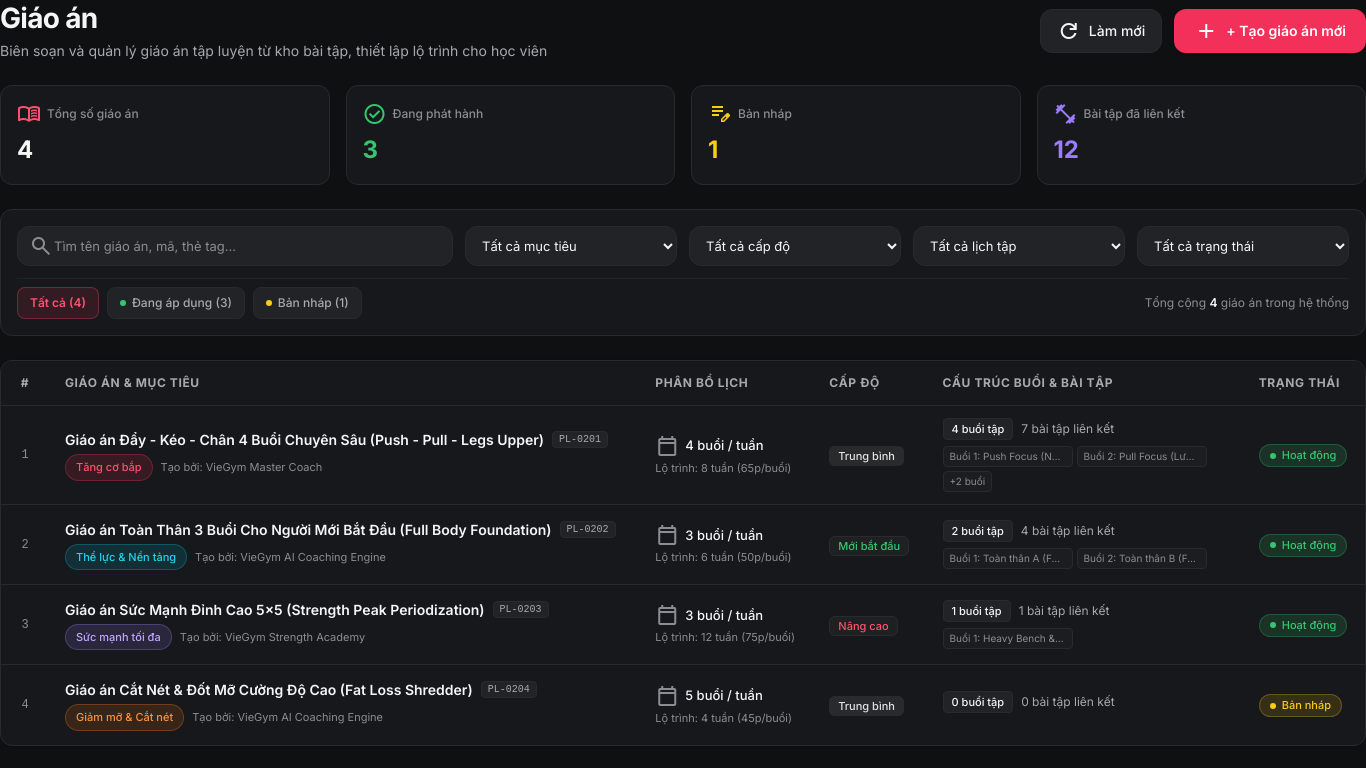
Test: WorkoutPlanListPage › opens and closes drawer when clicking + Tạo giáo án mới
Click the button "+ Tạo giáo án mới".
click(1270, 30)  # box [1174, 8, 1365, 52]
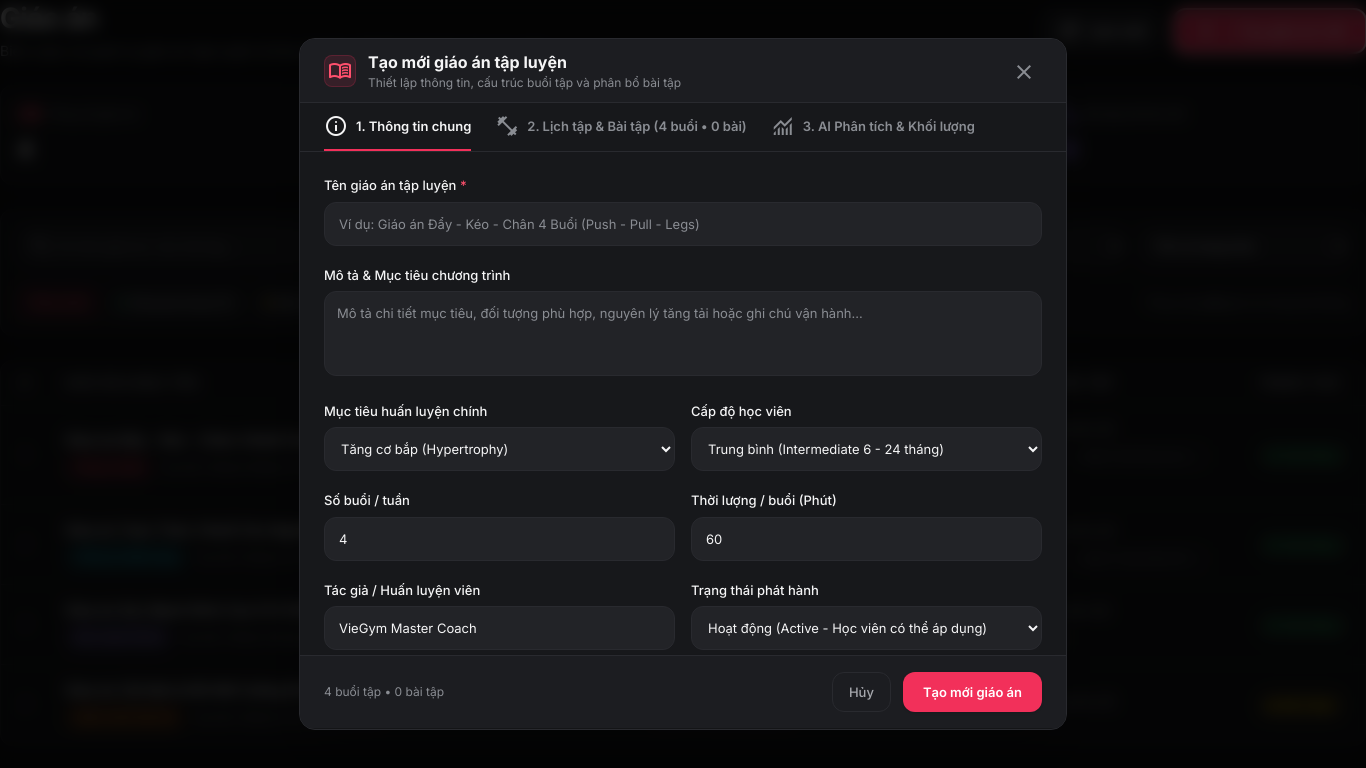
Now the heading "Tạo mới giáo án tập luyện" is shown, box [368, 50, 567, 74]
Now the text "1. Thông tin chung" is shown, box [356, 117, 471, 136]
Now the text "2. Lịch tập & Bài tập (4 buổi • 0 bài)" is shown, box [527, 117, 747, 136]
Click the button "Hủy".
click(861, 693)  # box [832, 673, 891, 713]
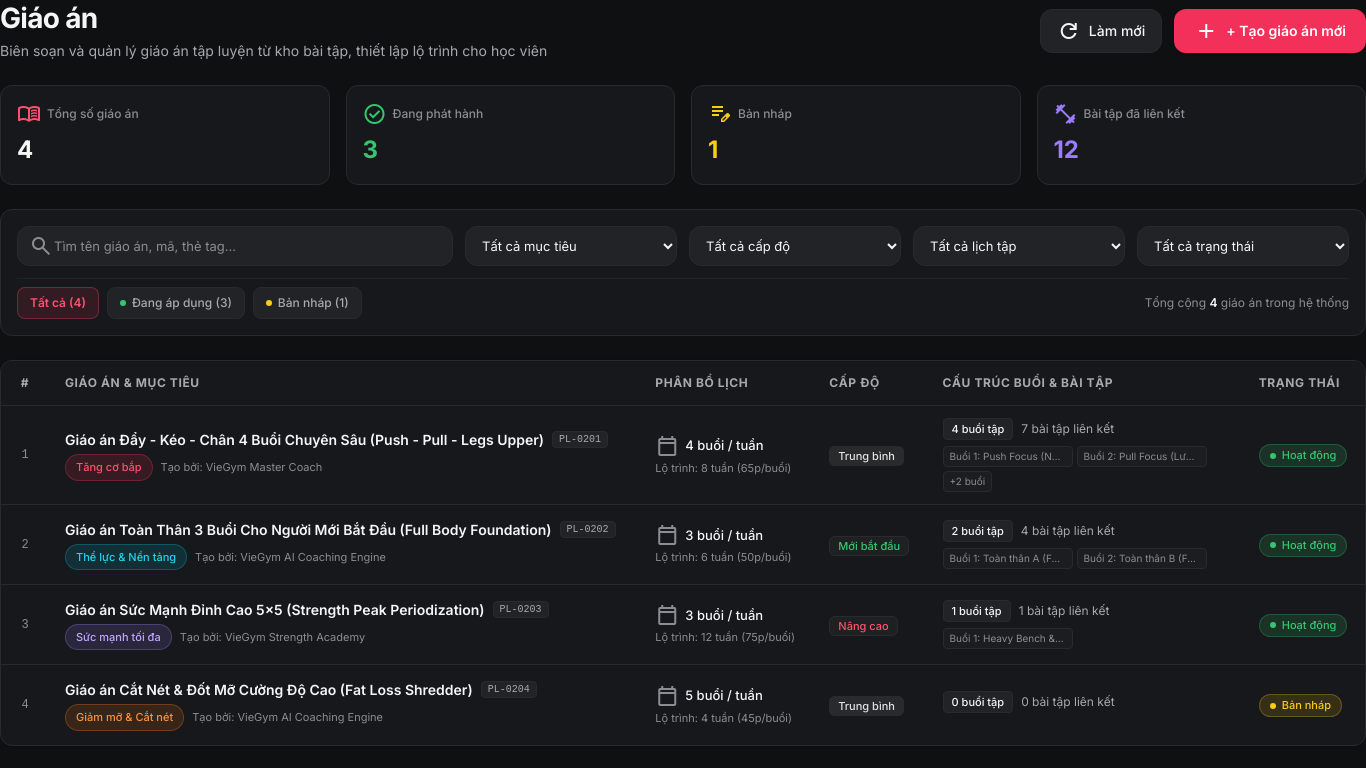
Now the heading "Tạo mới giáo án tập luyện" is gone
